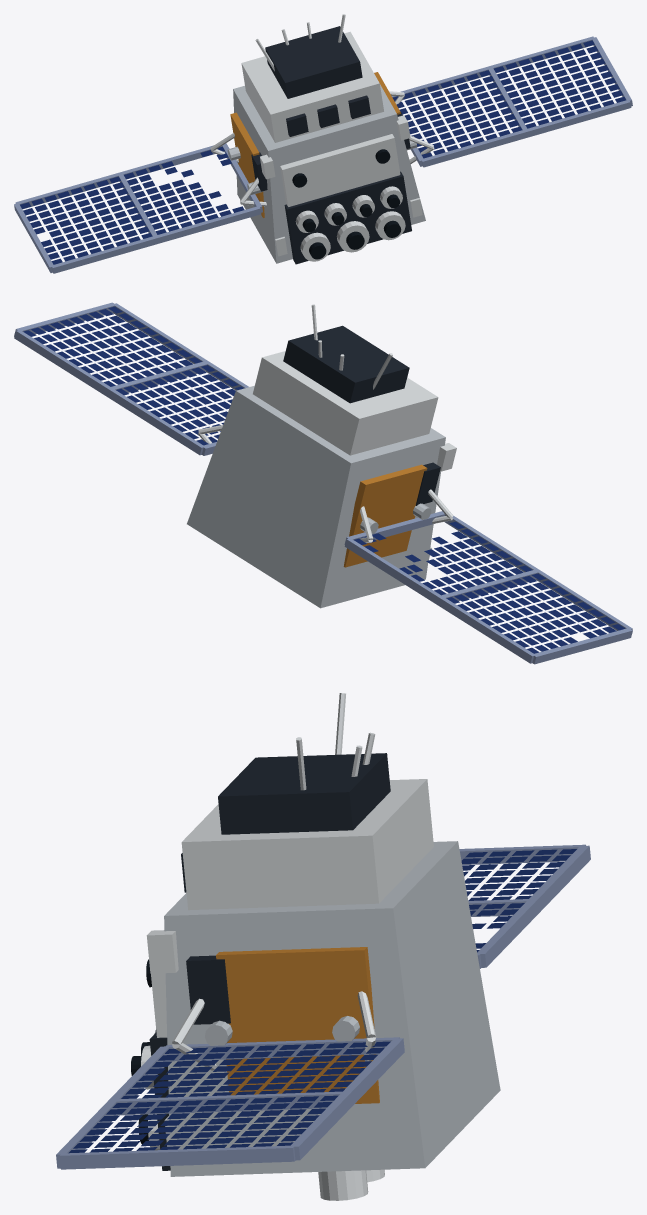
Rendered from CHANDRAYAAN-1.glb.
3 views of the same model, one above another, from view 1: azimuth 30°, elevation 25°; view 2: azimuth 150°, elevation 25°; view 3: azimuth 270°, elevation 25° (orthographic). The views are drawn at different scales.
Visible parts, largest first — view 1: CH1_SOLAR_CELLS, CH1_SOLAR_FRAMES, CH1_FACETED_MAIN_BUS, CH1_UPPER_EQUIPMENT_MODULE, CH1_FRONT_STRUCTURAL_PANEL, CH1_TOP_ELECTRONICS_BOX, CH1_CONSOLIDATED_INSTRUMENT_CLUSTER, CH1_LOWER_PAYLOAD_PLATE, CH1_SIDE_THERMAL_PANELS, CH1_UPPER_PANEL_DETAILS, CH1_CORNER_BRACKETS, CH1_SOLAR_TRUSS_SYSTEM (+1 smaller); view 2: CH1_FACETED_MAIN_BUS, CH1_SOLAR_CELLS, CH1_SOLAR_FRAMES, CH1_UPPER_EQUIPMENT_MODULE, CH1_TOP_ELECTRONICS_BOX, CH1_SIDE_THERMAL_PANELS, CH1_SOLAR_TRUSS_SYSTEM, CH1_EXTERNAL_EQUIPMENT_BOXES; view 3: CH1_FACETED_MAIN_BUS, CH1_UPPER_EQUIPMENT_MODULE, CH1_SOLAR_CELLS, CH1_SOLAR_FRAMES, CH1_SIDE_THERMAL_PANELS, CH1_TOP_ELECTRONICS_BOX, CH1_EXTERNAL_EQUIPMENT_BOXES, CH1_UNDERSIDE_EQUIPMENT, CH1_SOLAR_TRUSS_SYSTEM, CH1_CORNER_BRACKETS, CH1_TOP_ANTENNA_SYSTEM, CH1_SOLAR_HINGES (+2 smaller).
Boxes of the visible parts, x1=… form: CH1_SOLAR_CELLS: x1=20, y1=40, x2=625, y2=264; CH1_SOLAR_FRAMES: x1=14, y1=36, x2=632, y2=273; CH1_FACETED_MAIN_BUS: x1=233, y1=84, x2=425, y2=263; CH1_UPPER_EQUIPMENT_MODULE: x1=241, y1=31, x2=383, y2=142; CH1_FRONT_STRUCTURAL_PANEL: x1=280, y1=134, x2=400, y2=206; CH1_TOP_ELECTRONICS_BOX: x1=265, y1=26, x2=362, y2=98; CH1_CONSOLIDATED_INSTRUMENT_CLUSTER: x1=295, y1=186, x2=405, y2=261; CH1_LOWER_PAYLOAD_PLATE: x1=284, y1=171, x2=411, y2=264; CH1_SIDE_THERMAL_PANELS: x1=230, y1=72, x2=400, y2=217; CH1_UPPER_PANEL_DETAILS: x1=286, y1=95, x2=370, y2=136; CH1_CORNER_BRACKETS: x1=260, y1=115, x2=422, y2=256; CH1_SOLAR_TRUSS_SYSTEM: x1=210, y1=91, x2=434, y2=206; CH1_FACETED_MAIN_BUS: x1=187, y1=385, x2=445, y2=608; CH1_SOLAR_CELLS: x1=23, y1=306, x2=625, y2=653; CH1_SOLAR_FRAMES: x1=14, y1=302, x2=632, y2=664; CH1_UPPER_EQUIPMENT_MODULE: x1=253, y1=351, x2=438, y2=455; CH1_TOP_ELECTRONICS_BOX: x1=283, y1=325, x2=409, y2=403; CH1_SIDE_THERMAL_PANELS: x1=343, y1=464, x2=427, y2=567; CH1_SOLAR_TRUSS_SYSTEM: x1=198, y1=425, x2=453, y2=543; CH1_EXTERNAL_EQUIPMENT_BOXES: x1=415, y1=462, x2=440, y2=505; CH1_FACETED_MAIN_BUS: x1=164, y1=841, x2=500, y2=1176; CH1_UPPER_EQUIPMENT_MODULE: x1=181, y1=779, x2=433, y2=910; CH1_SOLAR_CELLS: x1=68, y1=849, x2=576, y2=1153; CH1_SOLAR_FRAMES: x1=56, y1=844, x2=590, y2=1169; CH1_SIDE_THERMAL_PANELS: x1=216, y1=947, x2=379, y2=1103; CH1_TOP_ELECTRONICS_BOX: x1=218, y1=753, x2=390, y2=834; CH1_EXTERNAL_EQUIPMENT_BOXES: x1=186, y1=955, x2=230, y2=1024; CH1_UNDERSIDE_EQUIPMENT: x1=318, y1=1169, x2=384, y2=1200; CH1_SOLAR_TRUSS_SYSTEM: x1=172, y1=991, x2=376, y2=1070; CH1_CORNER_BRACKETS: x1=146, y1=930, x2=178, y2=1146; CH1_TOP_ANTENNA_SYSTEM: x1=296, y1=693, x2=375, y2=790; CH1_SOLAR_HINGES: x1=205, y1=1016, x2=359, y2=1045.
Size of the model in its own units: 5.61 by 2.27 by 2.44.
